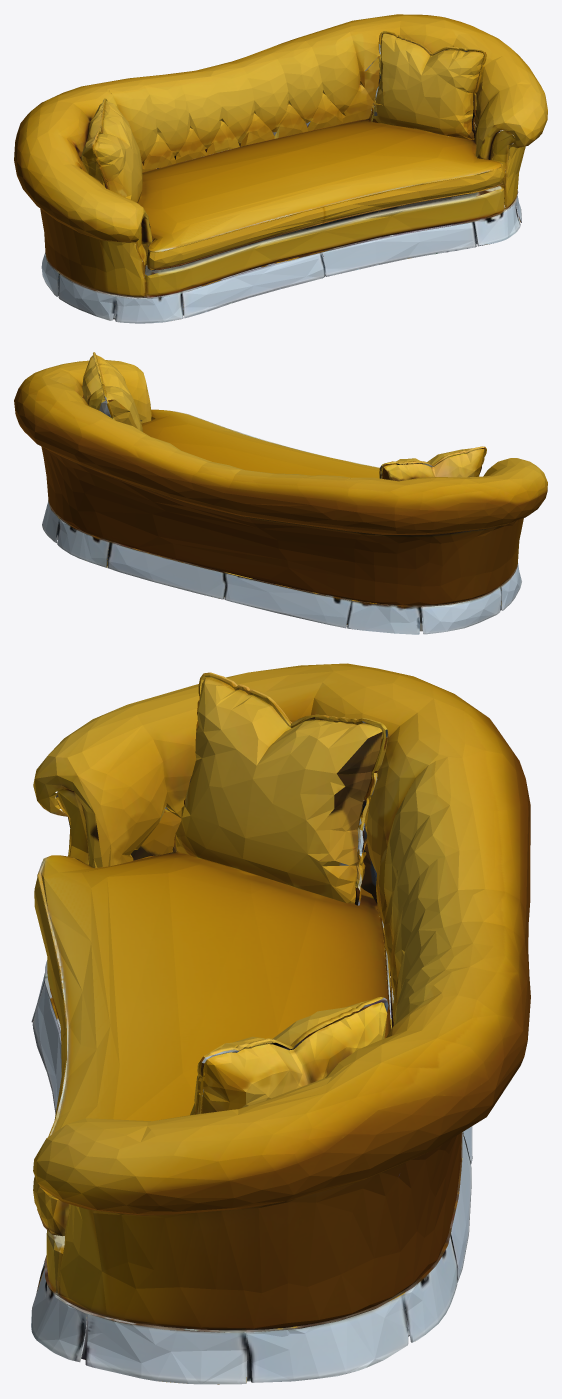
File: edited_mesh.glb
3 renders of one model, top to bottom at view 1: azimuth 30°, elevation 25°; view 2: azimuth 150°, elevation 25°; view 3: azimuth 270°, elevation 25°, orthographic. The views are drawn at different scales.
Visible parts, largest first — view 1: solid_001_wire; view 2: solid_001_wire; view 3: solid_001_wire.
Part boxes in pixels (x1,y1,x2,y2): solid_001_wire: (14, 14, 547, 323); solid_001_wire: (14, 352, 547, 634); solid_001_wire: (31, 663, 530, 1384).
Bounding box in the file's own units: 2 × 0.5993 × 0.8724.
1 material, 1 textured.
